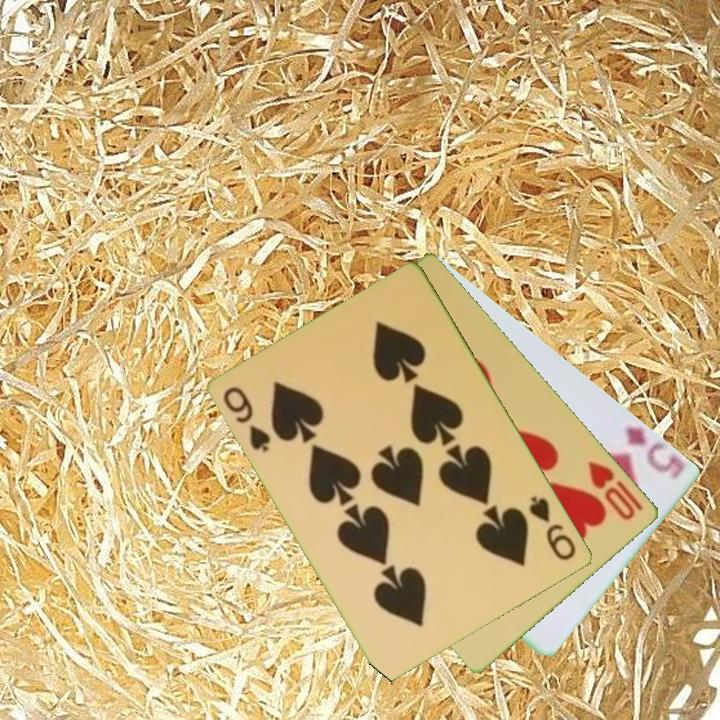10h: (585, 457, 639, 524)
5d: (621, 422, 684, 479)
9s: (525, 492, 580, 564), (220, 383, 274, 455)
